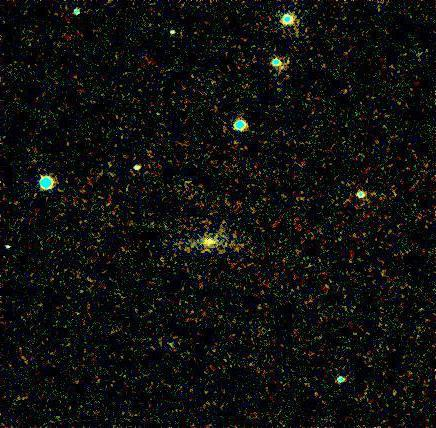star: (199, 228, 229, 258)
